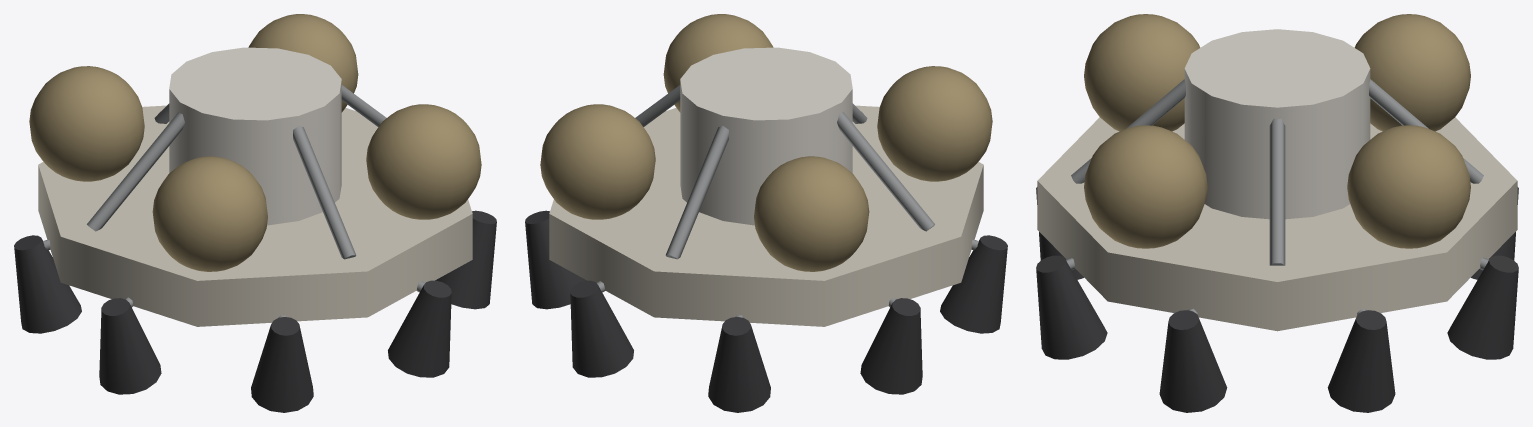
File: lander.glb
The picture shows the model from 3 angles, left to right: view 1: azimuth 30°, elevation 25°; view 2: azimuth 150°, elevation 25°; view 3: azimuth 270°, elevation 25°; orthographic projection. The views are drawn at different scales.
Visible parts, largest first — view 1: lander; view 2: lander; view 3: lander.
Part boxes in pixels (x1=…): lander: x1=14, y1=14, x2=496, y2=412; lander: x1=525, y1=14, x2=1007, y2=412; lander: x1=1036, y1=14, x2=1518, y2=412.
Bounding box in the file's own units: 3.11 × 1.75 × 3.12.
